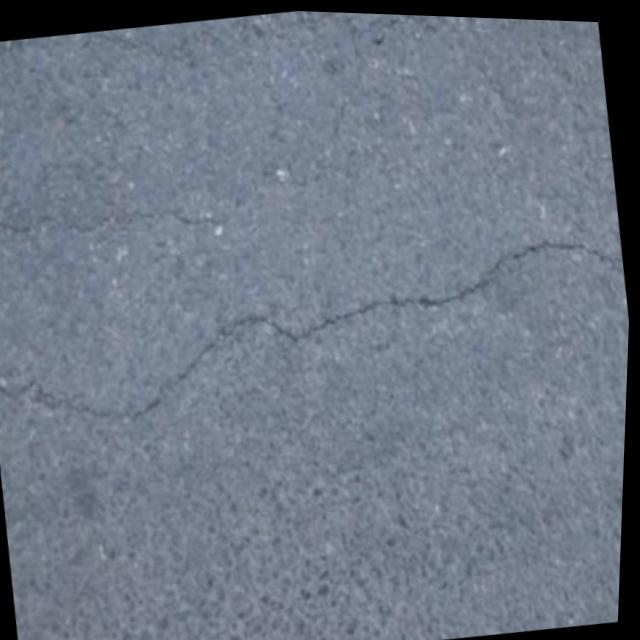Crack: (25, 199, 634, 458)
